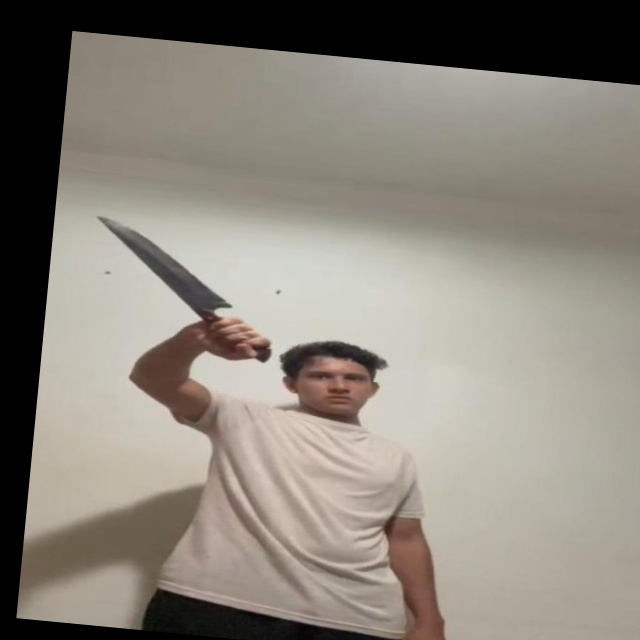Sharp-Object: (88, 215, 239, 312)
